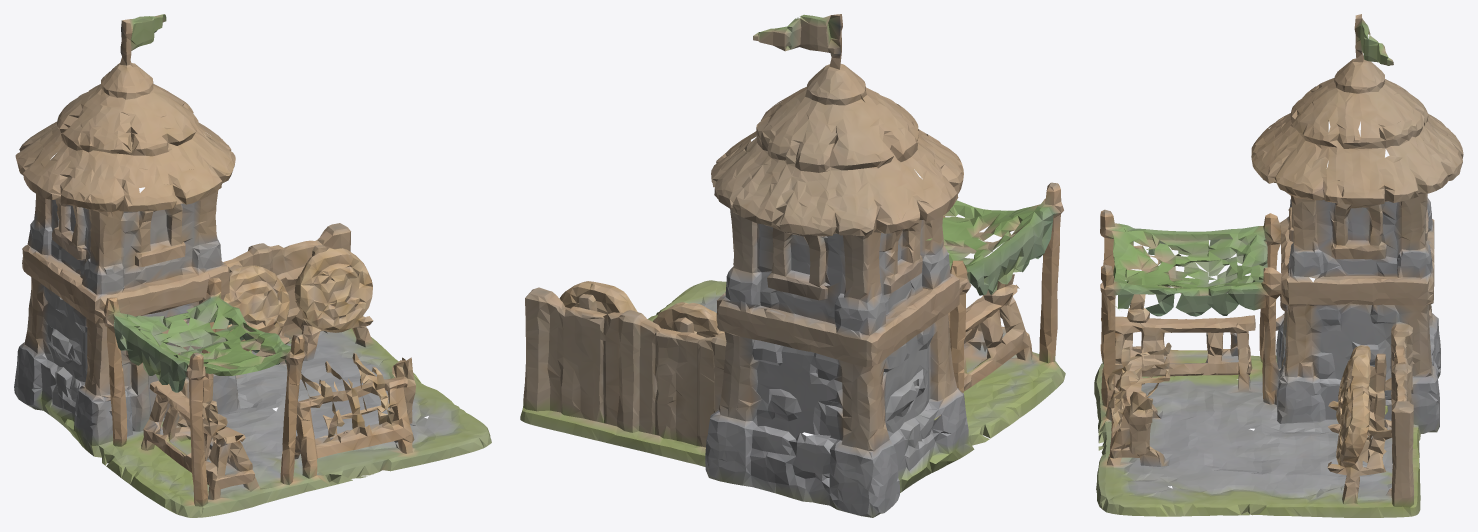
File: building_archery_range_lod1.glb
3 renders of one model, left to right at view 1: azimuth 30°, elevation 25°; view 2: azimuth 150°, elevation 25°; view 3: azimuth 270°, elevation 25°, orthographic. The views are drawn at different scales.
Visible parts, largest first — view 1: world; view 2: world; view 3: world.
Boxes of the visible parts, x1=… form: world: x1=14, y1=14, x2=491, y2=517; world: x1=520, y1=14, x2=1065, y2=517; world: x1=1094, y1=14, x2=1463, y2=517.
Size of the model in its own units: 1.76 by 1.89 by 1.66.
